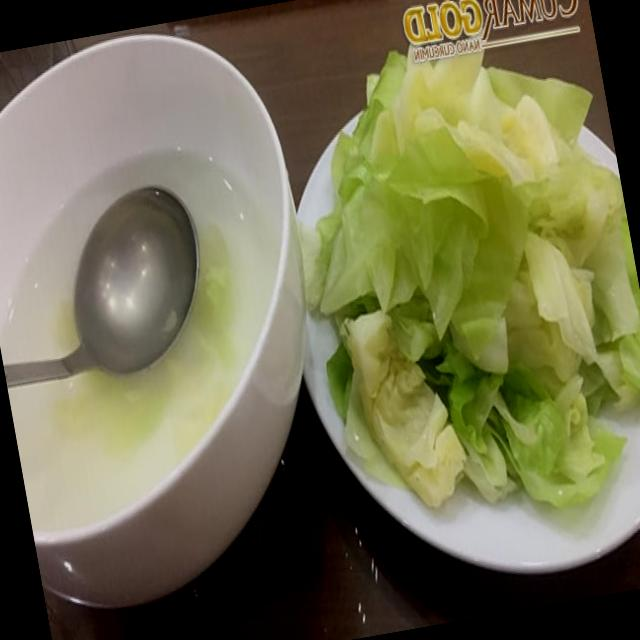bap cai luoc: (300, 38, 640, 506)
